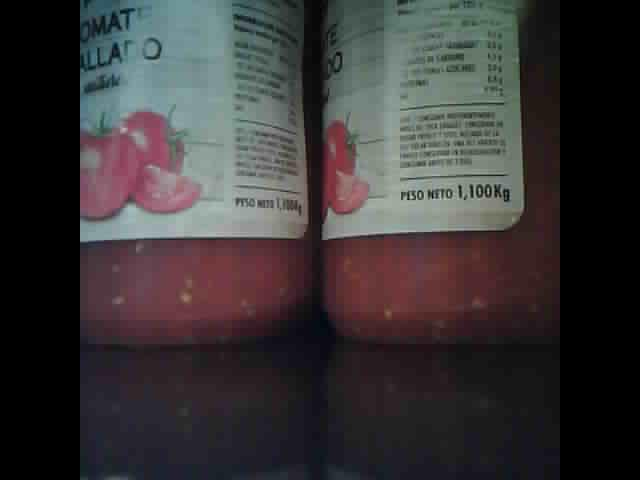tomate: (320, 3, 559, 343), (83, 1, 313, 346)
